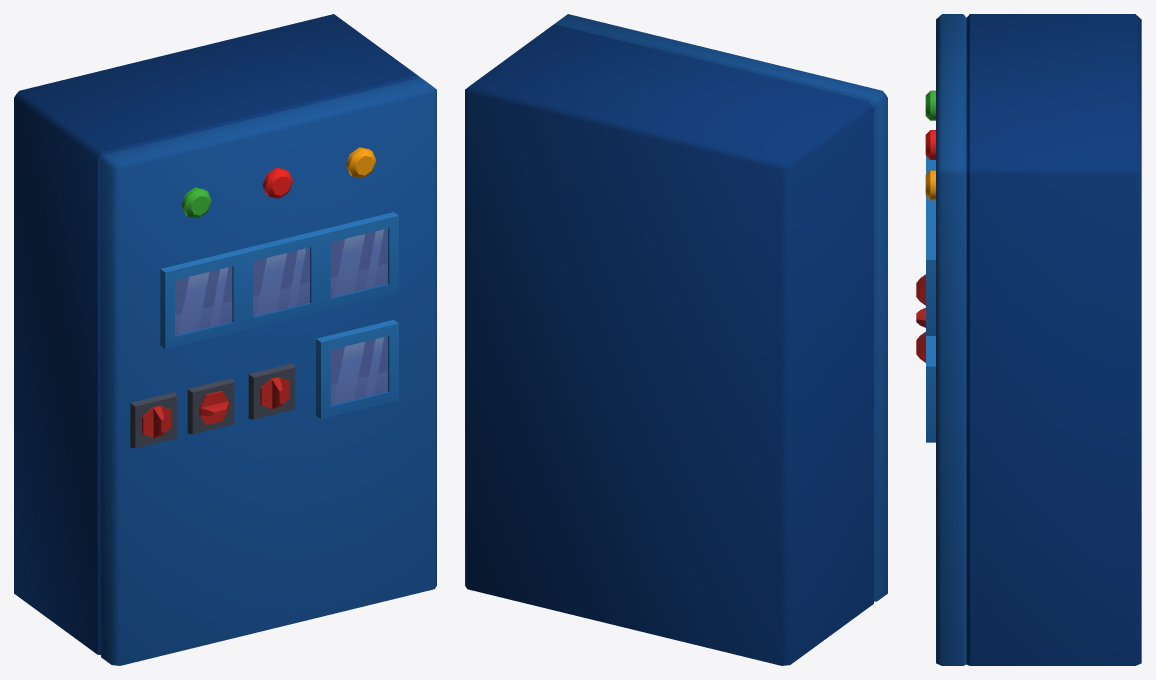
File: ElectricBox_3_B_1.fbx
3 views of the same model, side by side, from view 1: azimuth 30°, elevation 25°; view 2: azimuth 150°, elevation 25°; view 3: azimuth 270°, elevation 25° (orthographic).
Visible parts, largest first — view 1: ElectricBox_3_B_1; view 2: ElectricBox_3_B_1; view 3: ElectricBox_3_B_1.
Boxes of the visible parts, <box> form: ElectricBox_3_B_1: <box>14,14,436,665</box>; ElectricBox_3_B_1: <box>465,14,887,665</box>; ElectricBox_3_B_1: <box>916,14,1141,665</box>.
Bounding box in the file's own units: 102 × 150 × 61.6.
